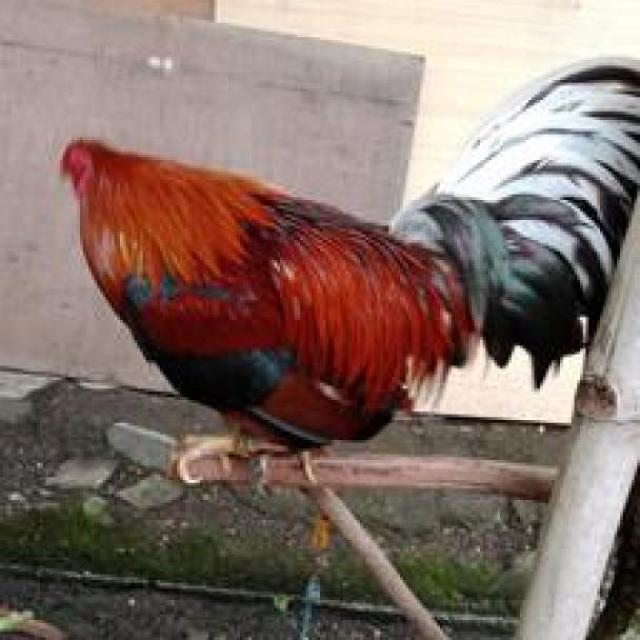Chicken: (48, 109, 584, 523)
